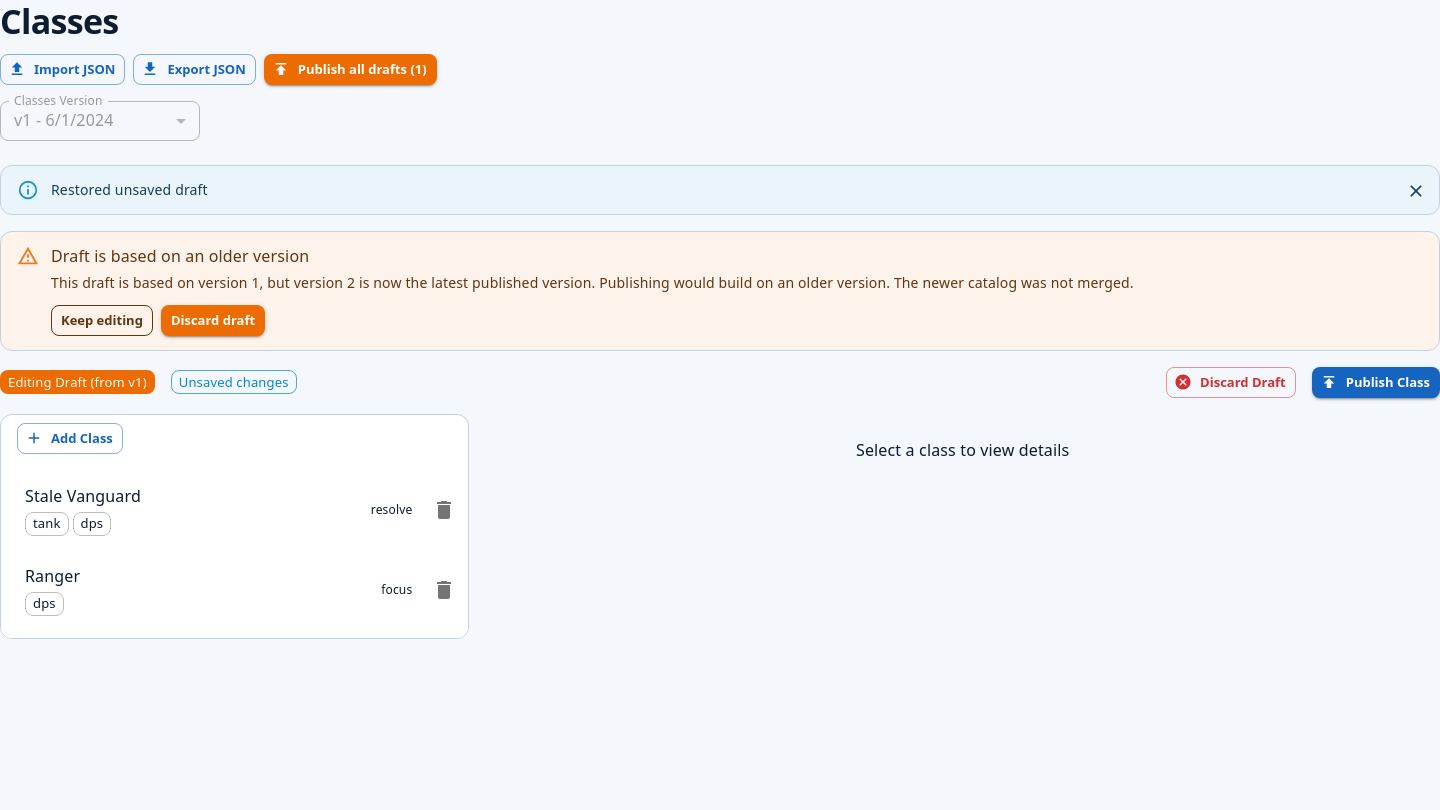
Test: Draft persistence (MMO-29) › lets the user discard a stale-base draft after confirming
Expected: the message "based on an older version" is shown, [0,231,1439,351]
Click the button "Discard draft" at x=213, y=321, box [161,305,265,336]
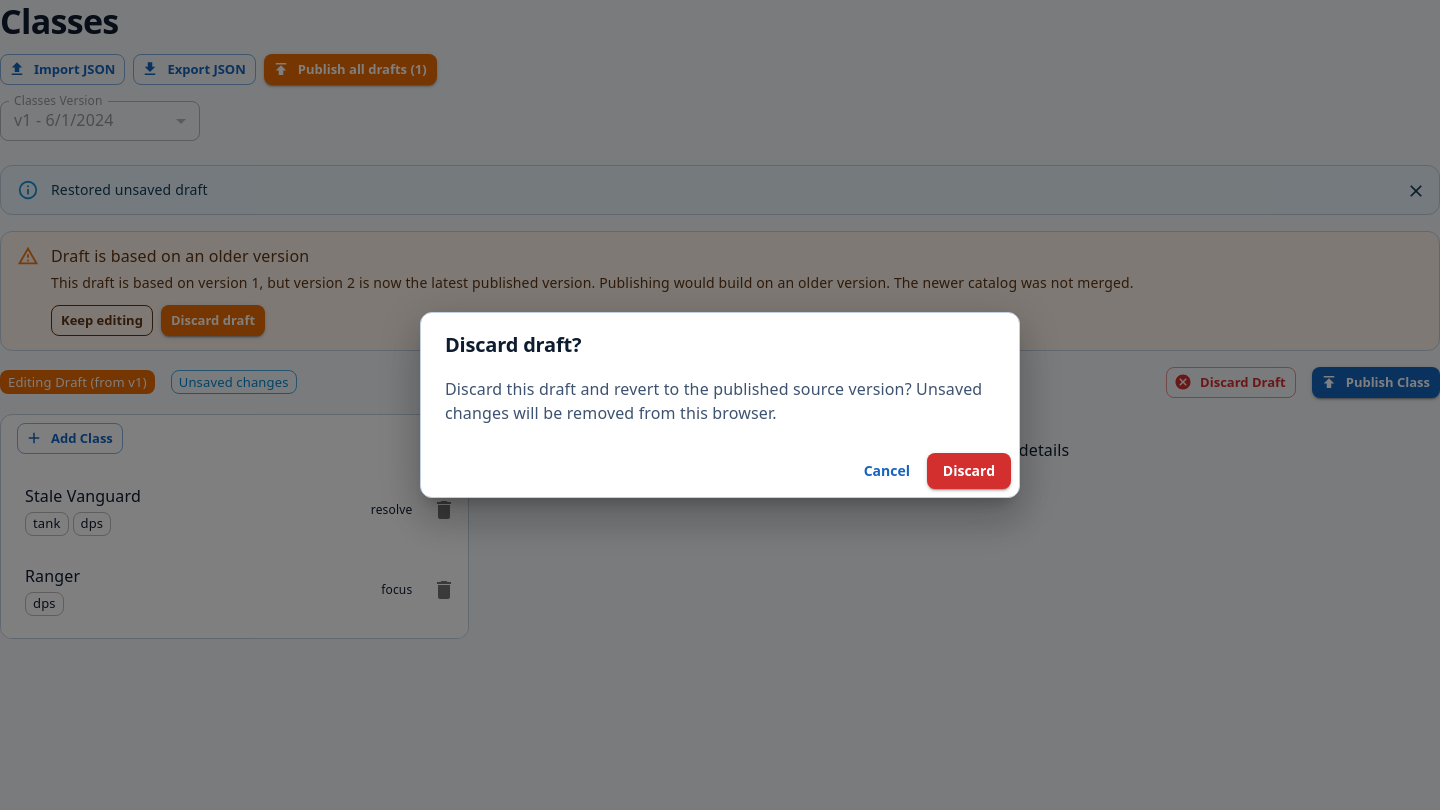
Click the button "Discard" at x=969, y=471, box [927,453,1011,489]
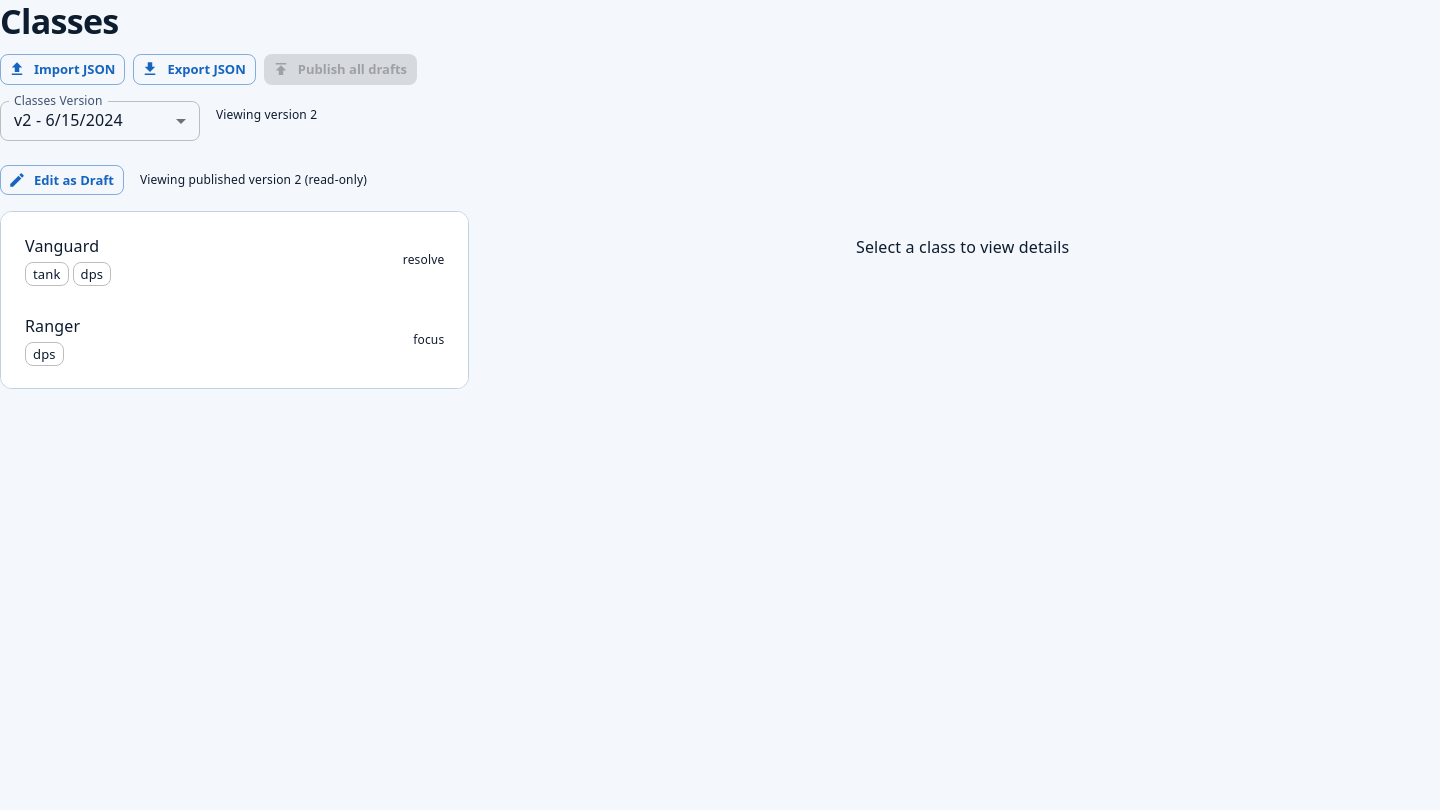
Expected: the text "Vanguard" is shown, [25,235,99,257]
Expected: the button "Discard draft" is gone
Expected: the button "Stale Vanguard" is gone
